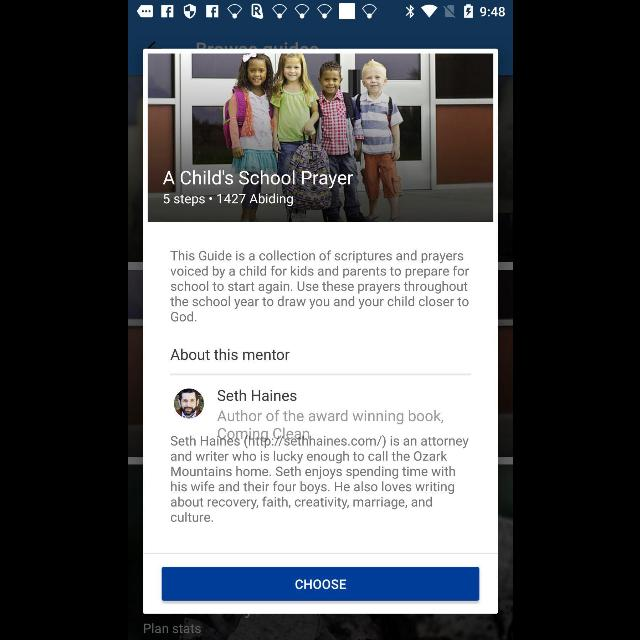image: (148, 54, 492, 222), (173, 389, 203, 419)
panel: (142, 49, 498, 614)
text: (170, 438, 468, 520), (170, 250, 468, 322), (218, 410, 442, 440), (162, 170, 352, 188), (163, 194, 293, 206), (170, 349, 288, 361), (217, 390, 296, 400)
textbutton: (161, 568, 479, 600)
uppertaskbar: (128, 1, 512, 23)
